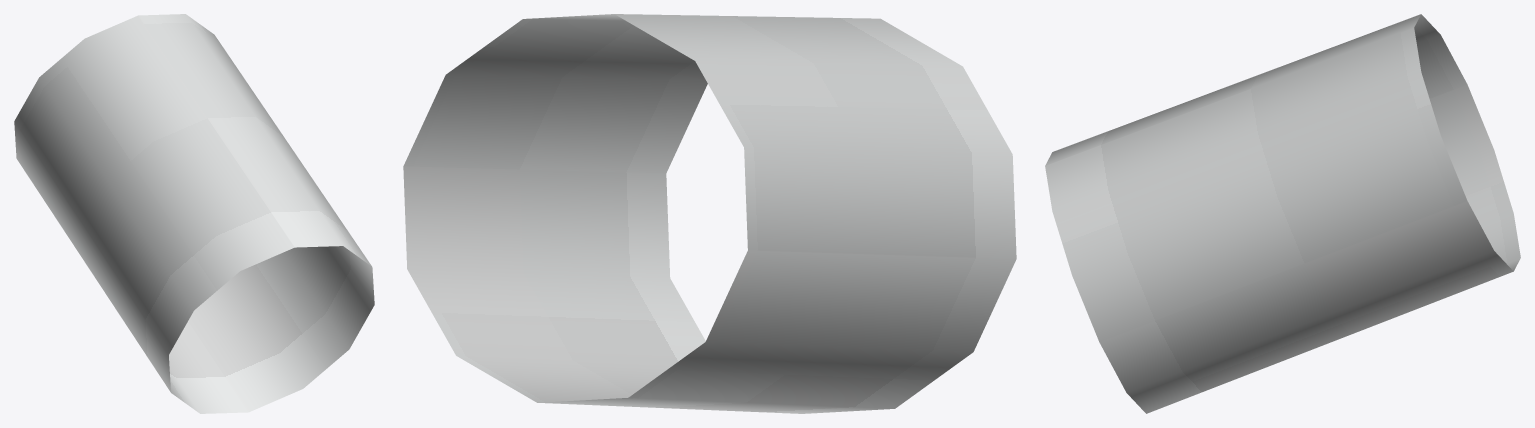
Rendered from luminairearm_caltrans10ftstraight_c1.obj.
3 renders of one model, left to right at view 1: azimuth 30°, elevation 25°; view 2: azimuth 150°, elevation 25°; view 3: azimuth 270°, elevation 25°, orthographic. The views are drawn at different scales.
Parts seen in each view (by area): view 1: luminairearm_caltrans10ftstraight_c1; view 2: luminairearm_caltrans10ftstraight_c1; view 3: luminairearm_caltrans10ftstraight_c1.
Boxes of the visible parts, left/top/right/bottom form: luminairearm_caltrans10ftstraight_c1: left=14, top=14, right=374, bottom=413; luminairearm_caltrans10ftstraight_c1: left=403, top=14, right=1016, bottom=413; luminairearm_caltrans10ftstraight_c1: left=1045, top=14, right=1520, bottom=413.
Bounding box in the file's own units: 0.2161 × 0.3169 × 0.367.
